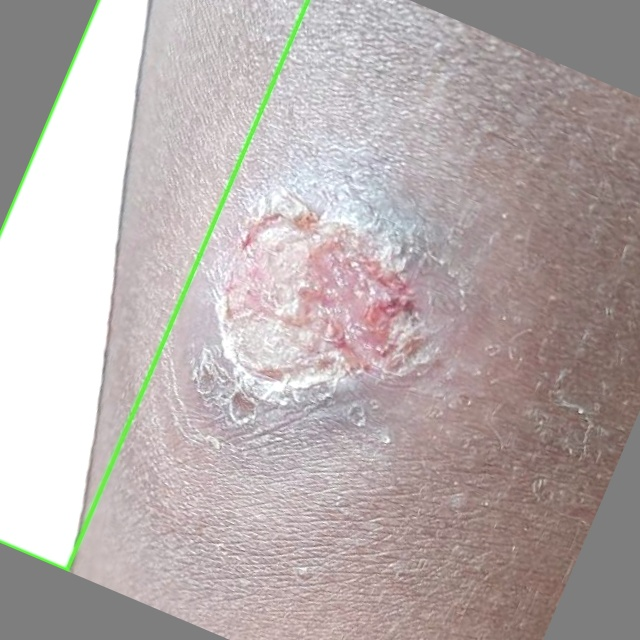Eczema: (0, 0, 308, 570)
